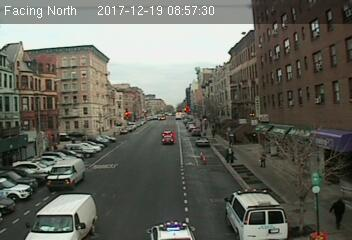car: (196, 136, 209, 147), (160, 135, 174, 144)
pedestrian: (327, 195, 347, 232)
police: (223, 186, 287, 240)
truck: (23, 194, 97, 240), (47, 158, 86, 189)
